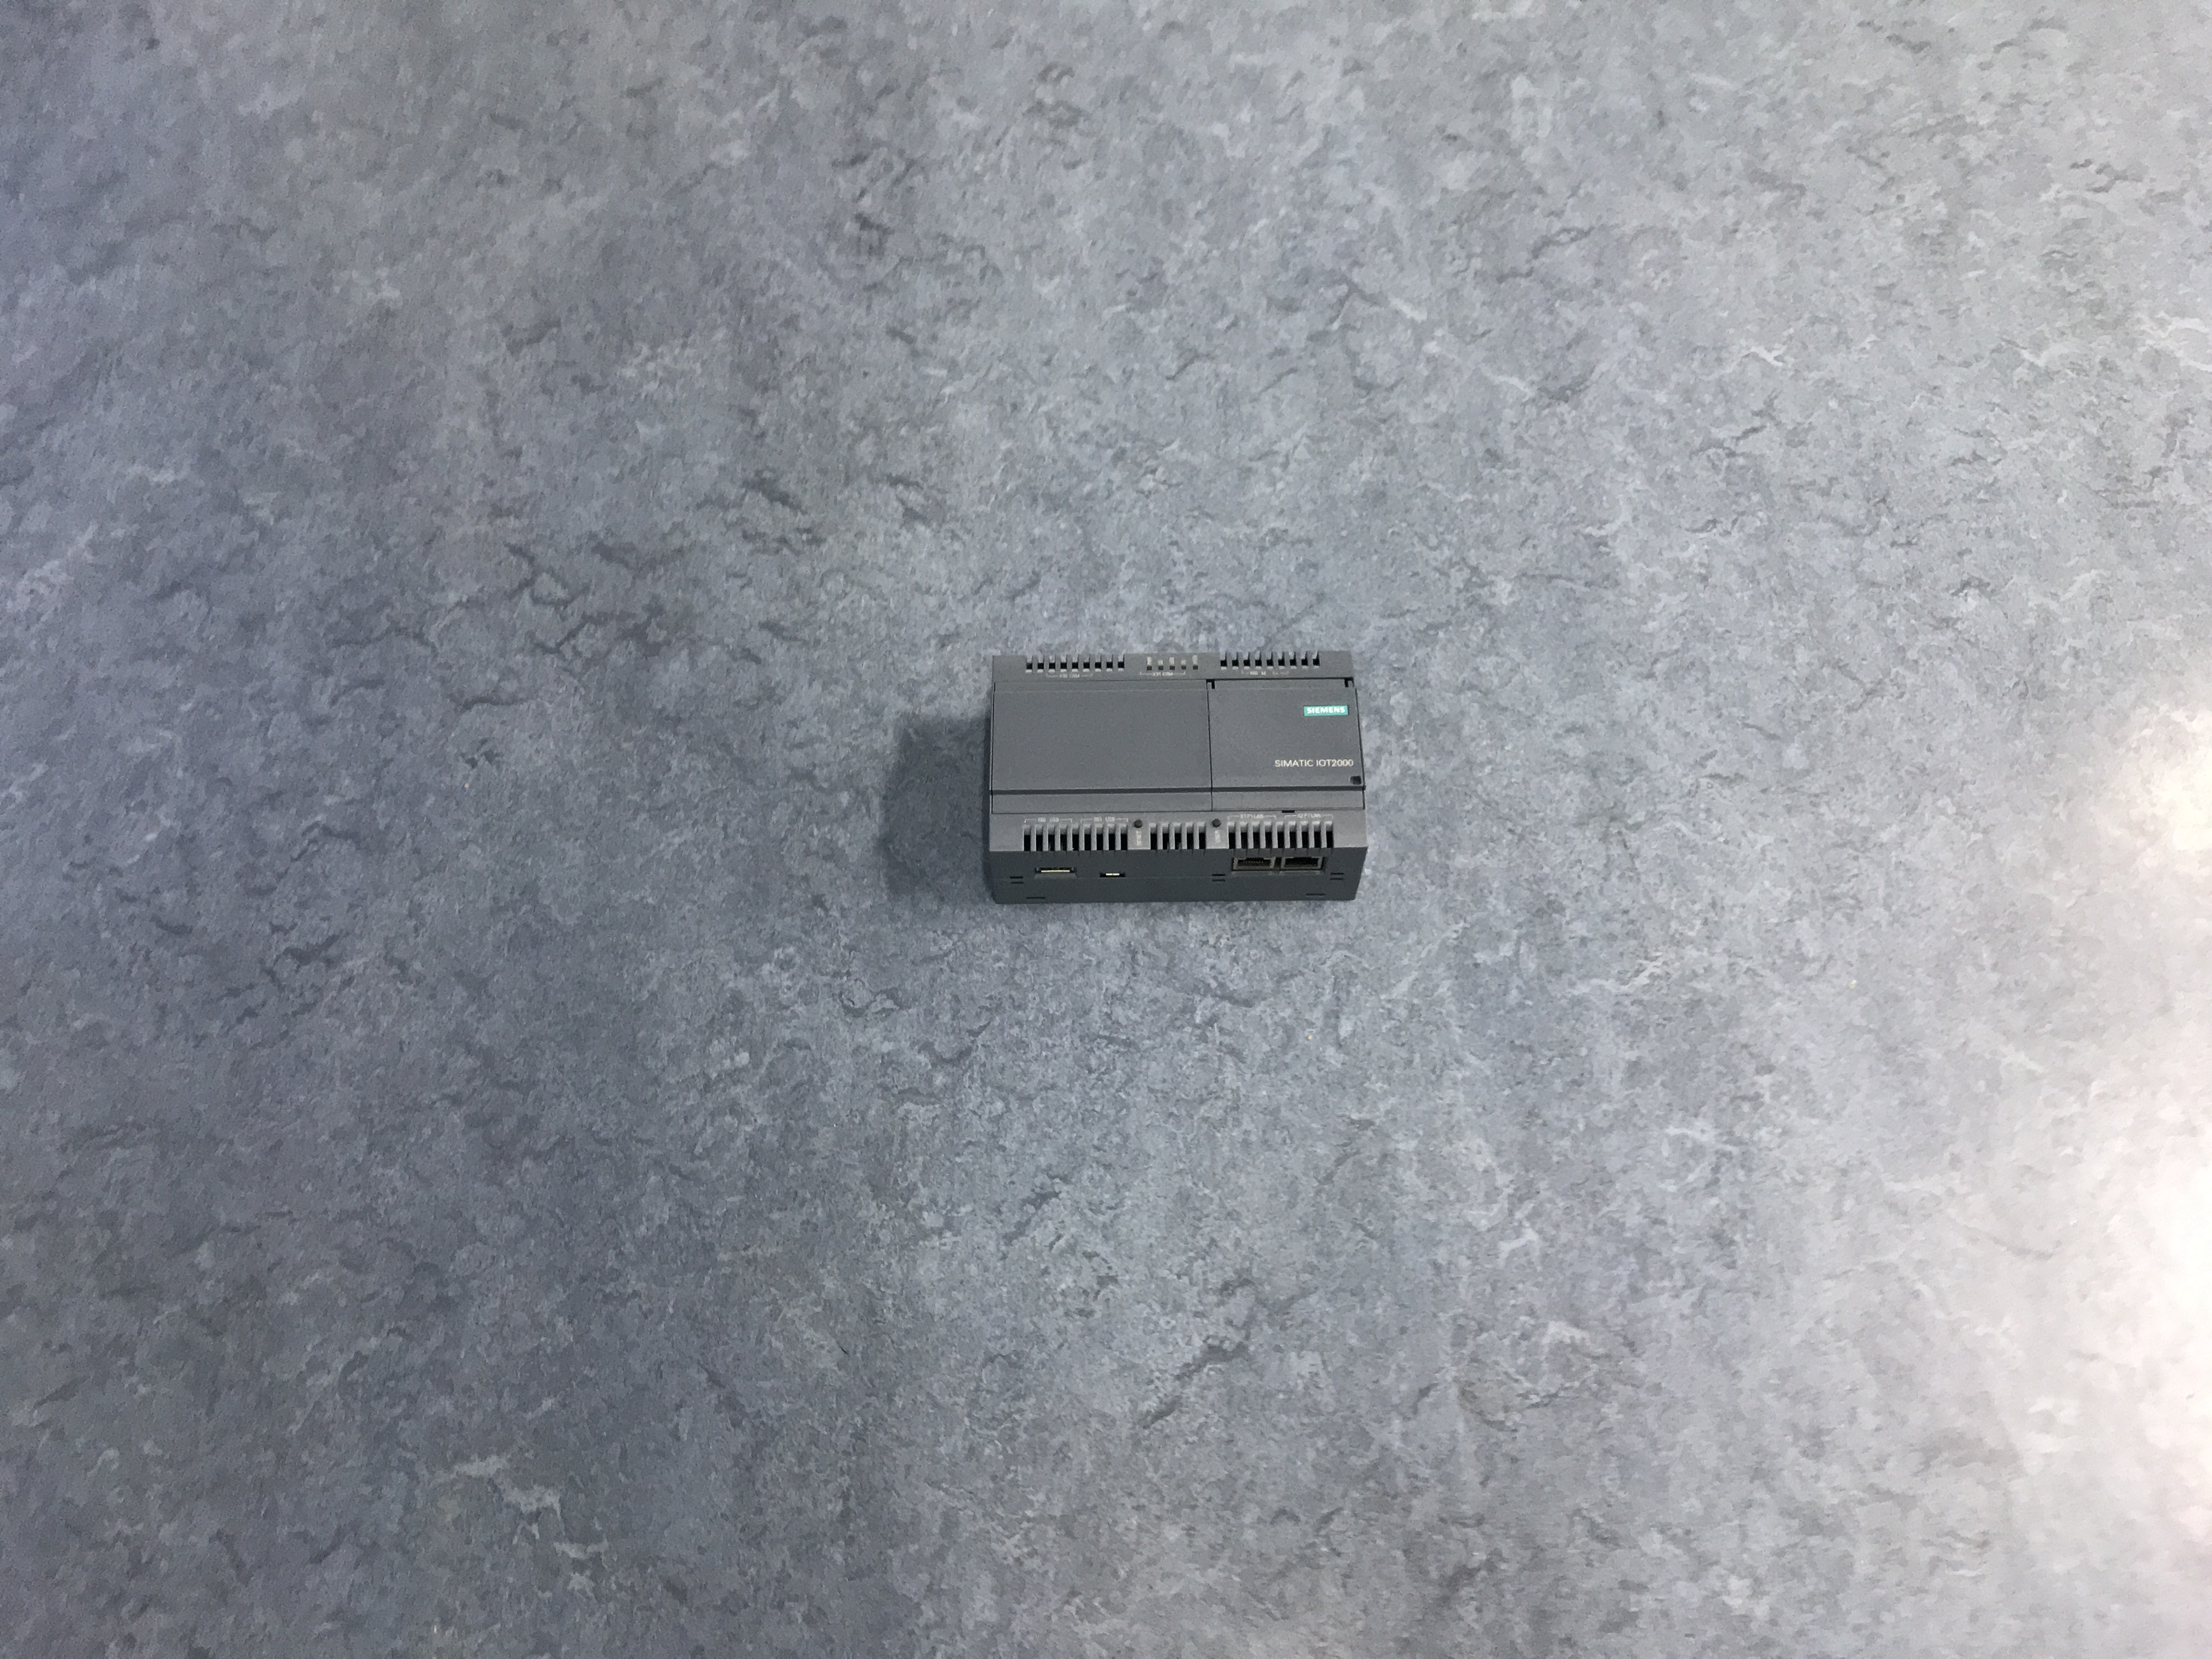device: (988, 650, 1369, 904)
